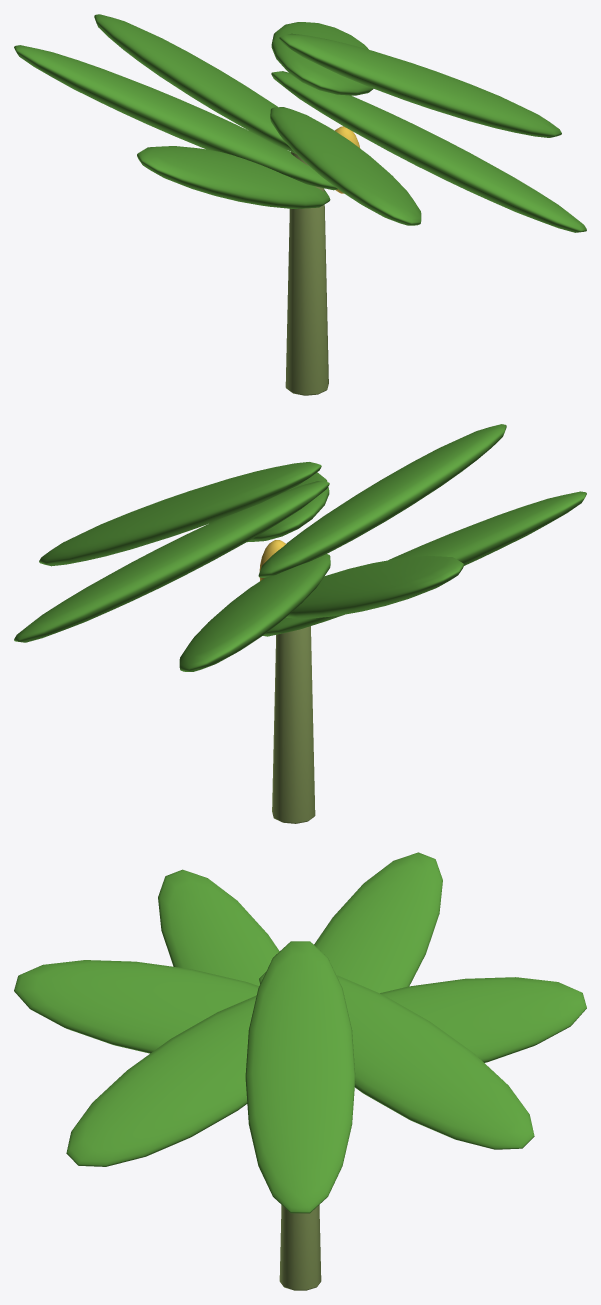
The model's file is veg_bananeira.glb.
3 renders of one model, top to bottom at view 1: azimuth 30°, elevation 25°; view 2: azimuth 150°, elevation 25°; view 3: azimuth 270°, elevation 25°, orthographic. The views are drawn at different scales.
Visible parts, largest first — view 1: veg_bananeira; view 2: veg_bananeira; view 3: veg_bananeira.
Part boxes in pixels (bbox=[...]): veg_bananeira: bbox=[14, 14, 586, 395]; veg_bananeira: bbox=[14, 424, 586, 823]; veg_bananeira: bbox=[14, 852, 586, 1290].
Bounding box in the file's own units: 5.48 × 3.87 × 6.05.
